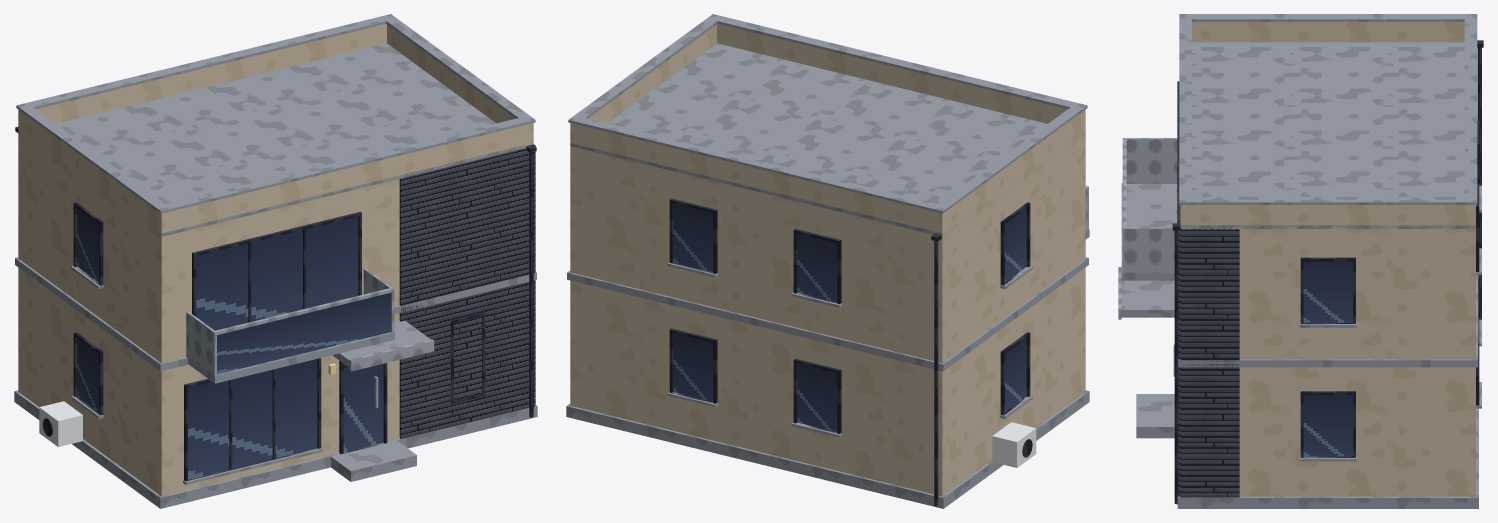
The model's file is modern_house_6.glb.
The picture shows the model from 3 angles, left to right: view 1: azimuth 30°, elevation 25°; view 2: azimuth 150°, elevation 25°; view 3: azimuth 270°, elevation 25°; orthographic projection. The views are drawn at different scales.
Visible parts, largest first — view 1: modern_house_7; view 2: modern_house_7; view 3: modern_house_7.
Part boxes in pixels (x1=…): modern_house_7: x1=14, y1=14, x2=537, y2=508; modern_house_7: x1=566, y1=14, x2=1089, y2=508; modern_house_7: x1=1118, y1=14, x2=1483, y2=508.
Size of the model in its own units: 9.8 by 6.86 by 7.43.
9 materials, 9 textured.
